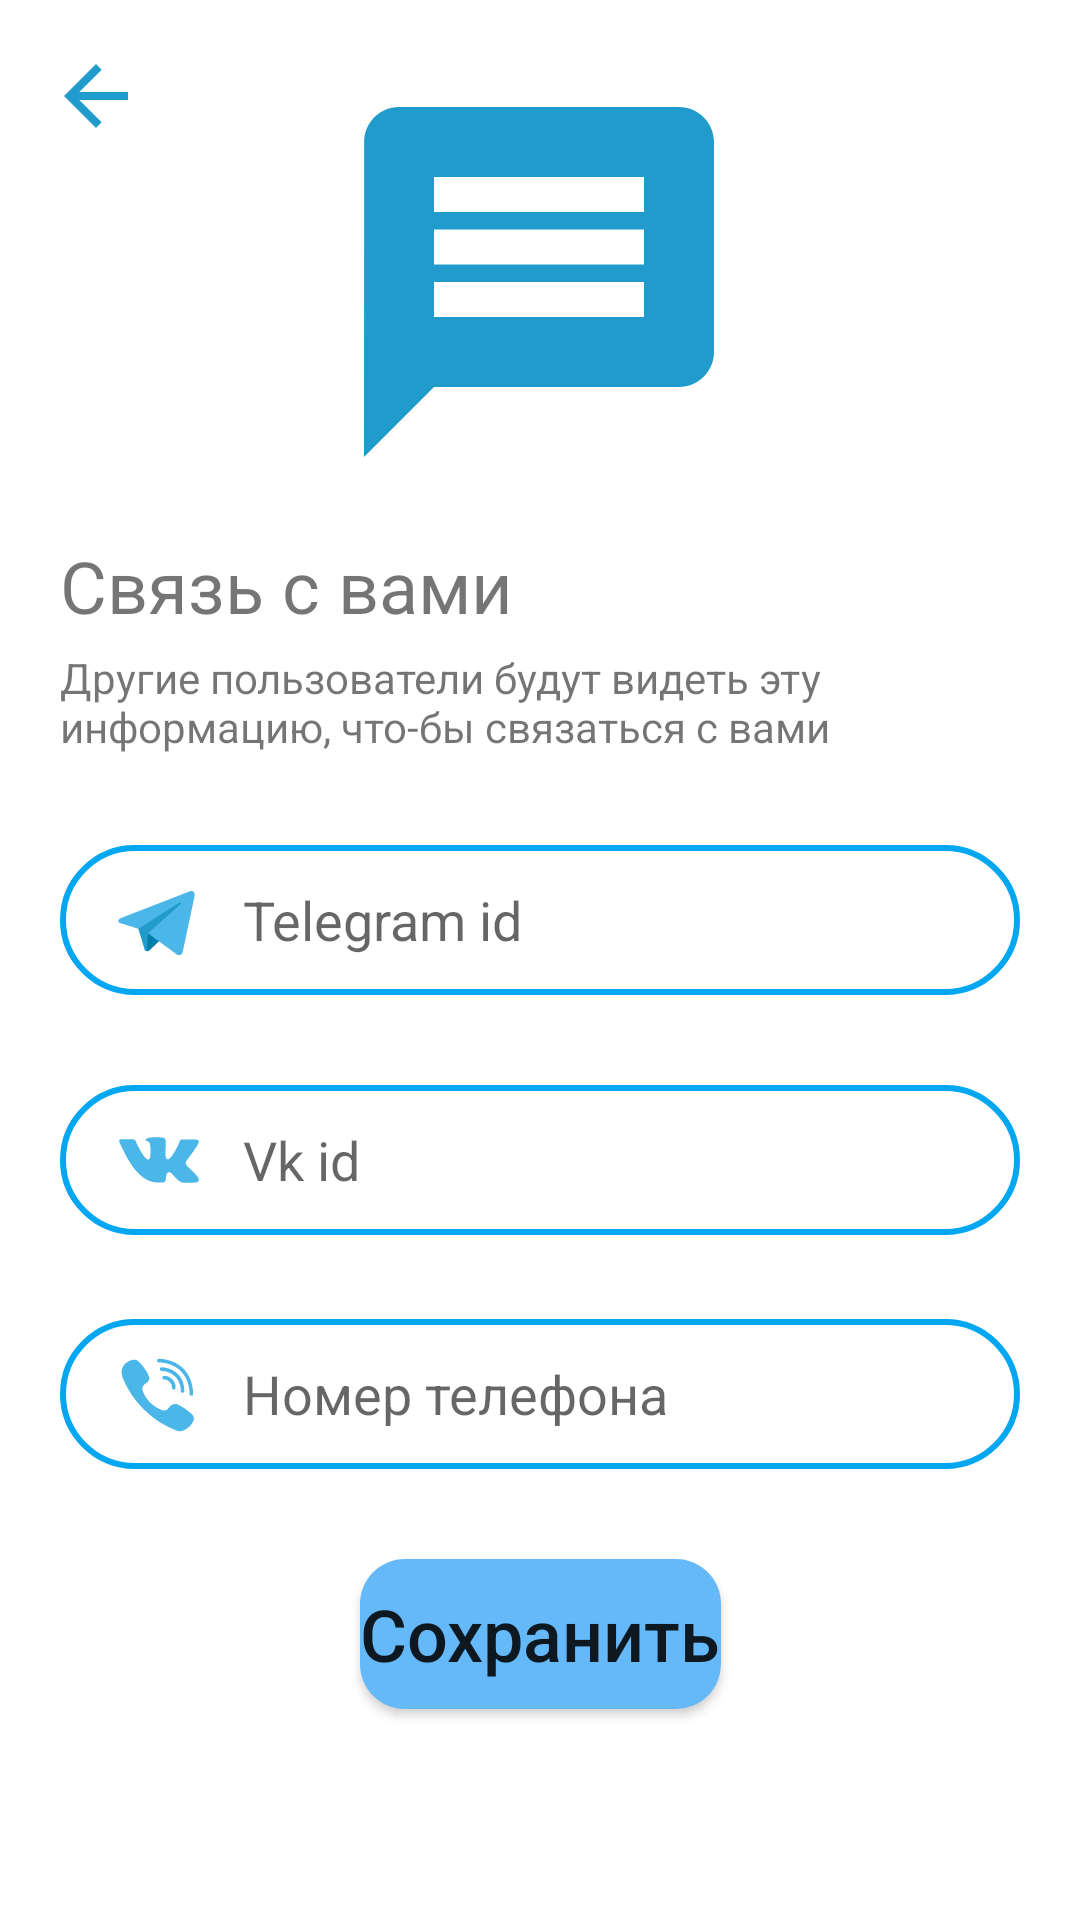

Named icons in this screenshot (1080w x 1920h) and their centers, (x=x, y=y):
back: (x=96, y=96)
message: (x=539, y=282)
